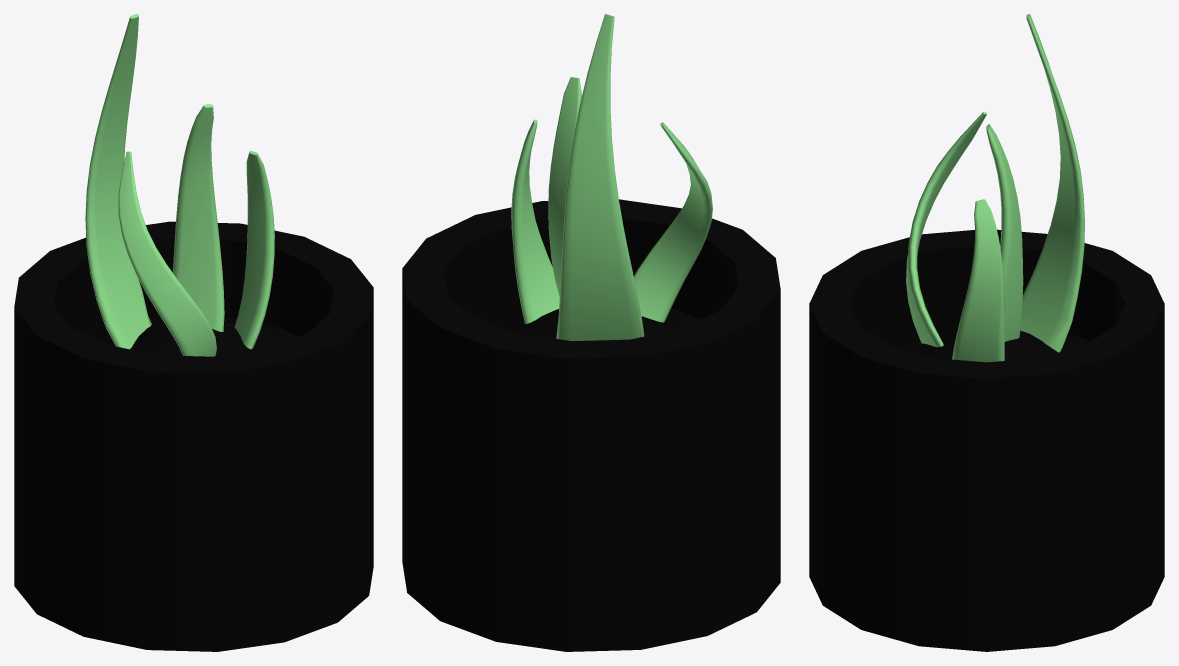
The model's file is plant.glb.
3 views of the same model, side by side, from view 1: azimuth 30°, elevation 25°; view 2: azimuth 150°, elevation 25°; view 3: azimuth 270°, elevation 25° (orthographic). The views are drawn at different scales.
Visible parts, largest first — view 1: pot, plant; view 2: pot, plant; view 3: pot, plant.
Part boxes in pixels (box(x1,y1,x2,y2)): pot: box(14, 221, 373, 651); plant: box(85, 14, 274, 356); pot: box(402, 199, 780, 651); plant: box(511, 14, 712, 341); pot: box(809, 229, 1164, 651); plant: box(906, 14, 1084, 362).
Bounding box in the file's own units: 4.14 × 6.98 × 4.14.
